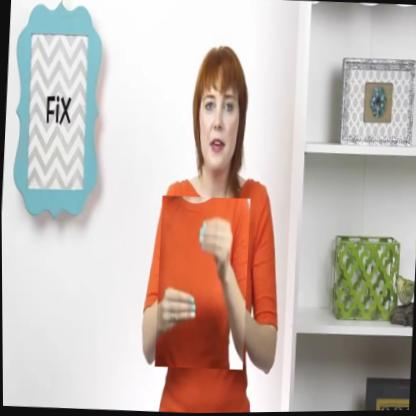Fix: (153, 195, 251, 371)
